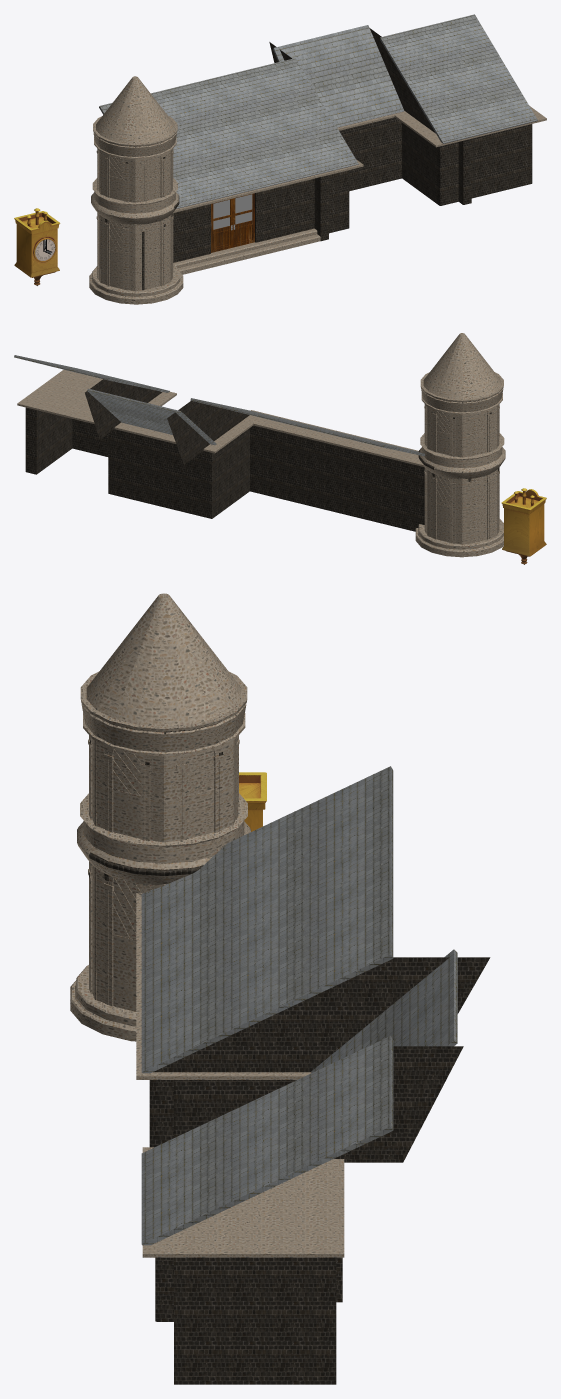
The model's file is AssetsHouse.fbx.
The picture shows the model from 3 angles, top to bottom: view 1: azimuth 30°, elevation 25°; view 2: azimuth 150°, elevation 25°; view 3: azimuth 270°, elevation 25°; orthographic projection. The views are drawn at different scales.
Visible parts, largest first — view 1: MSH_House, MSH_Tower, MSH_Clock; view 2: MSH_House, MSH_Tower, MSH_Clock; view 3: MSH_House, MSH_Tower, MSH_Clock.
Part boxes in pixels (bbox=[...]): MSH_House: bbox=[99, 14, 546, 274]; MSH_Tower: bbox=[89, 76, 183, 304]; MSH_Clock: bbox=[14, 208, 60, 285]; MSH_House: bbox=[14, 355, 424, 531]; MSH_Tower: bbox=[415, 333, 505, 557]; MSH_Clock: bbox=[501, 488, 546, 564]; MSH_House: bbox=[136, 766, 490, 1384]; MSH_Tower: bbox=[70, 593, 250, 1041]; MSH_Clock: bbox=[239, 772, 266, 831].
Bounding box in the file's own units: 1299 × 478 × 512.
Materials: 8 (6 with a texture image).
